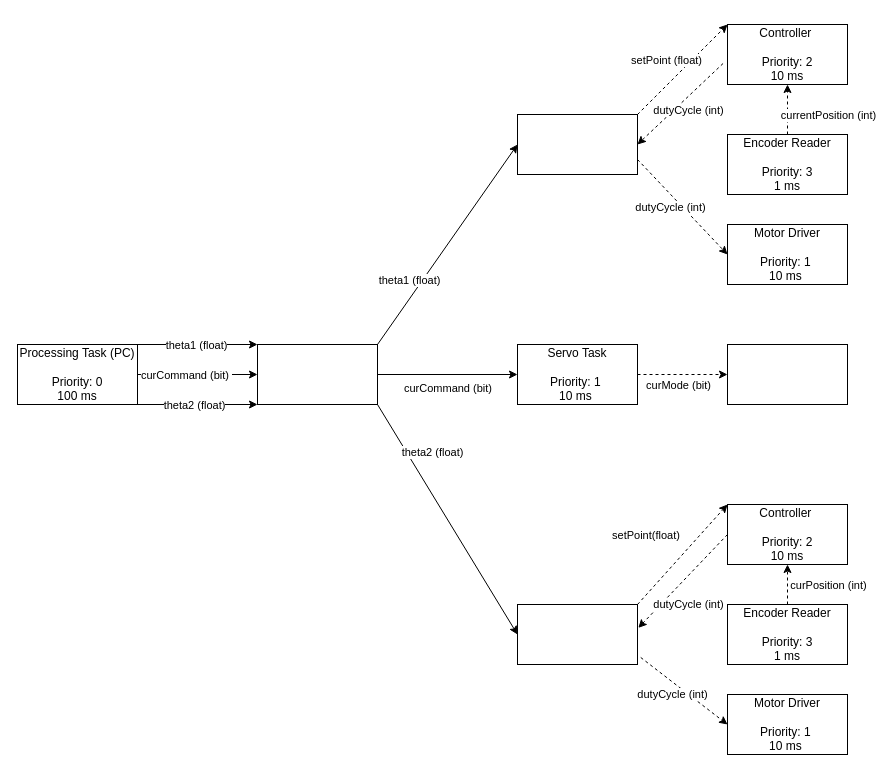
Some shapes in this 893 by 772 pixel diagram are drawn without their labels. Each missing label, with the centre of its shape:
Main Priority: 3 1 ms: point 317,374
Radial Task Priority: 1 10 ms: point 577,634
Rotation Task Priority: 1 10 ms: point 577,144
Servo Driver Priority: 1 10 ms: point 787,374
